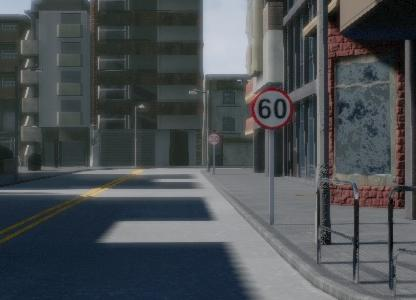Speed_60: (196, 82, 243, 129)
